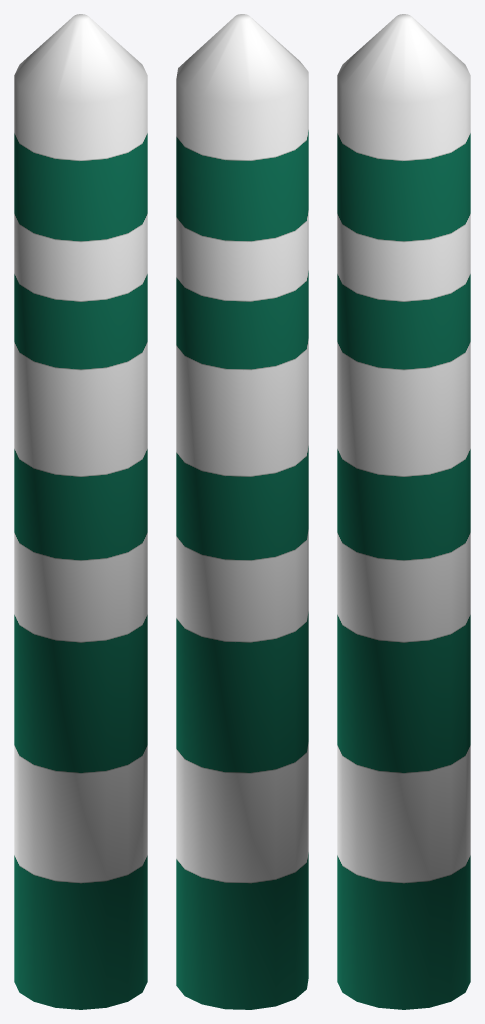
File: candle.glb
3 renders of one model, left to right at view 1: azimuth 90°, elevation 25°; view 2: azimuth 210°, elevation 25°; view 3: azimuth 270°, elevation 25°, orthographic.
Parts seen in each view (by area): view 1: Candle; view 2: Candle; view 3: Candle.
Boxes of the visible parts, x1,y1,x2,y2 form: Candle: (14,14,147,1009); Candle: (176,14,308,1009); Candle: (337,14,470,1009).
Size of the model in its own units: 0.624 by 4.98 by 0.624.
1 material, 1 textured.
